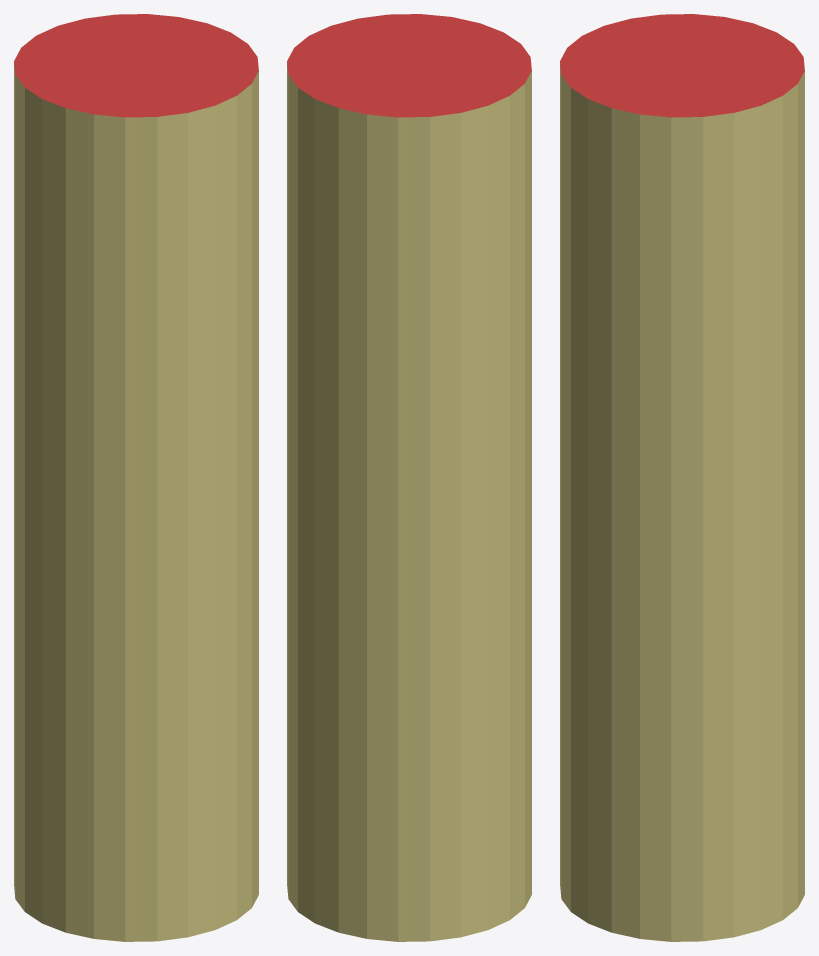
3 renders of one model, left to right at view 1: azimuth 30°, elevation 25°; view 2: azimuth 150°, elevation 25°; view 3: azimuth 270°, elevation 25°, orthographic.
Size of the model in its own units: 2.1 by 2.1 by 7.8.
